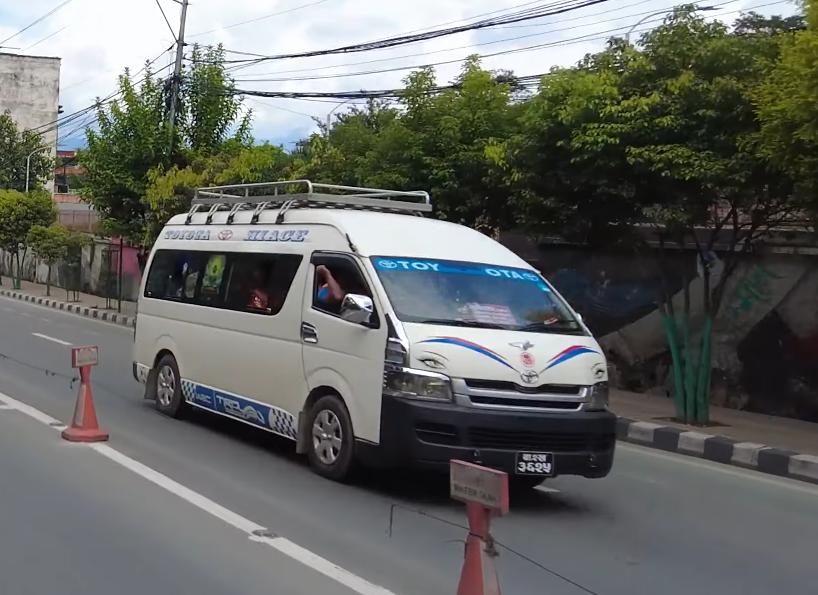micro_bus: (131, 173, 631, 510)
